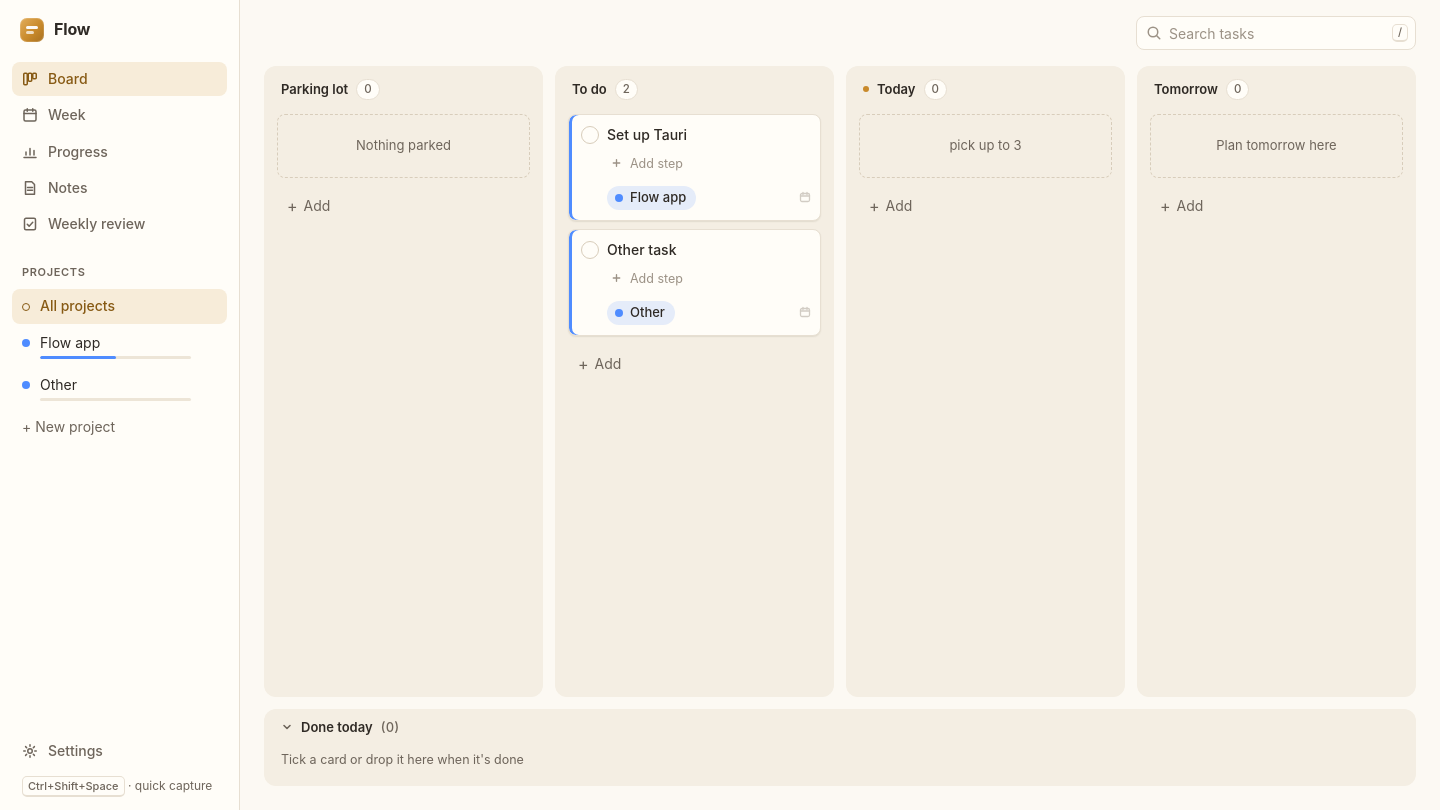
Test case: Project header › edits the goal and writes it to the project file; Escape cancels
Expected: the button "Set up Tauri" is shown, [607,125,810,144]
Step 1. Click the button "Flow app" → (120, 346), box [12,326,227,366]
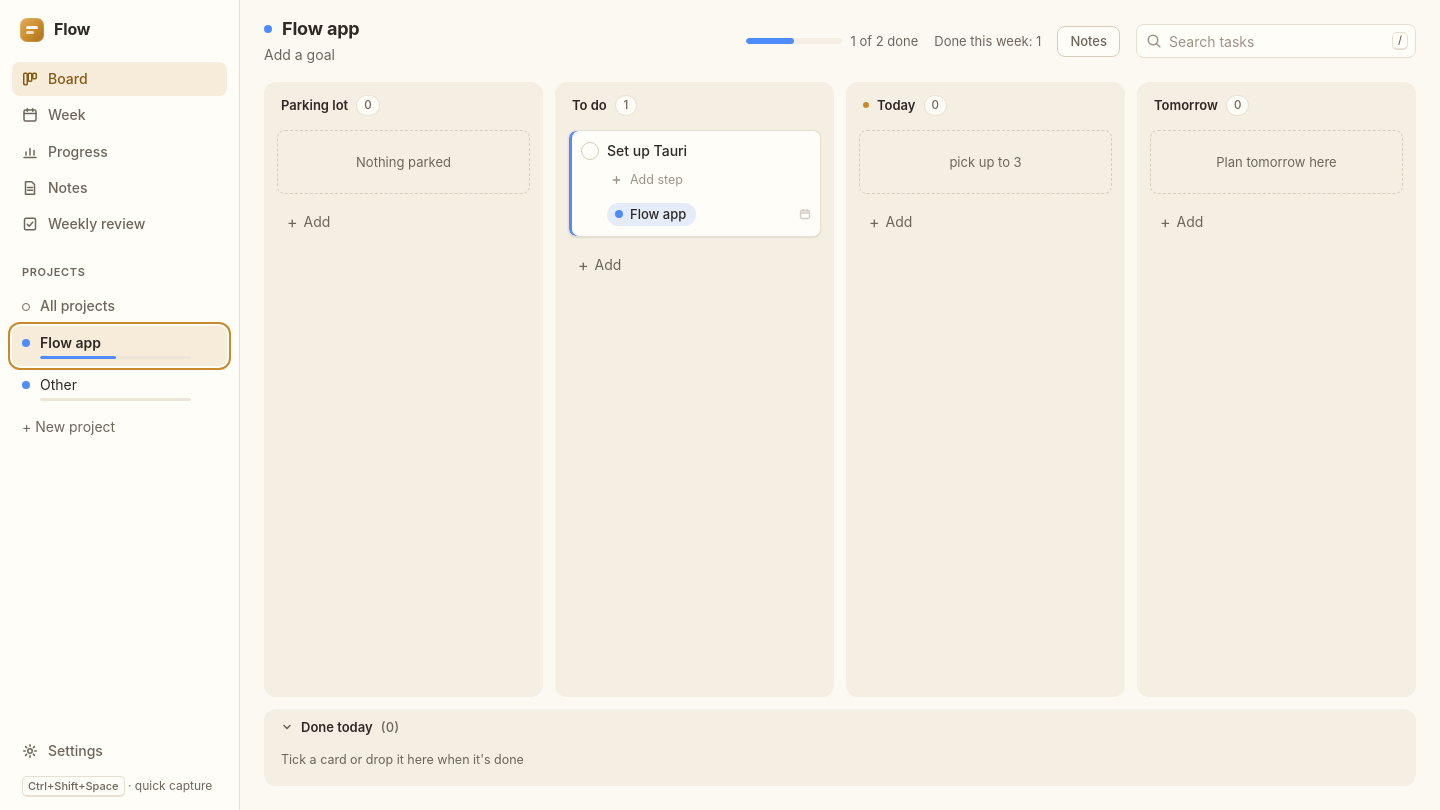
Step 2. Click the button "Add a goal" → (299, 55), box [258,44,341,66]
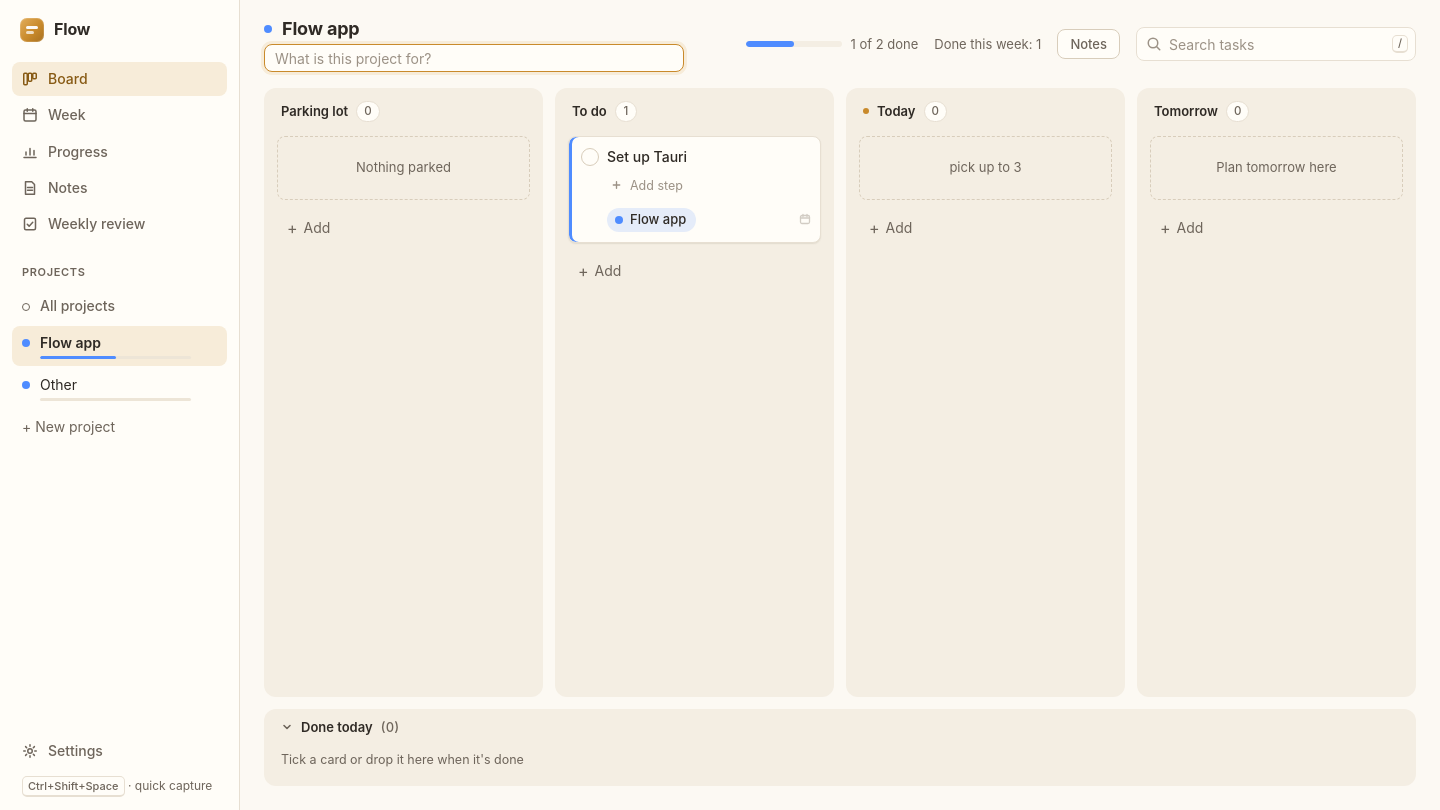
Step 3. Type "Ship v0.2" into the field named "Goal" → (474, 58), box [264,44,684,72]
Then press Escape
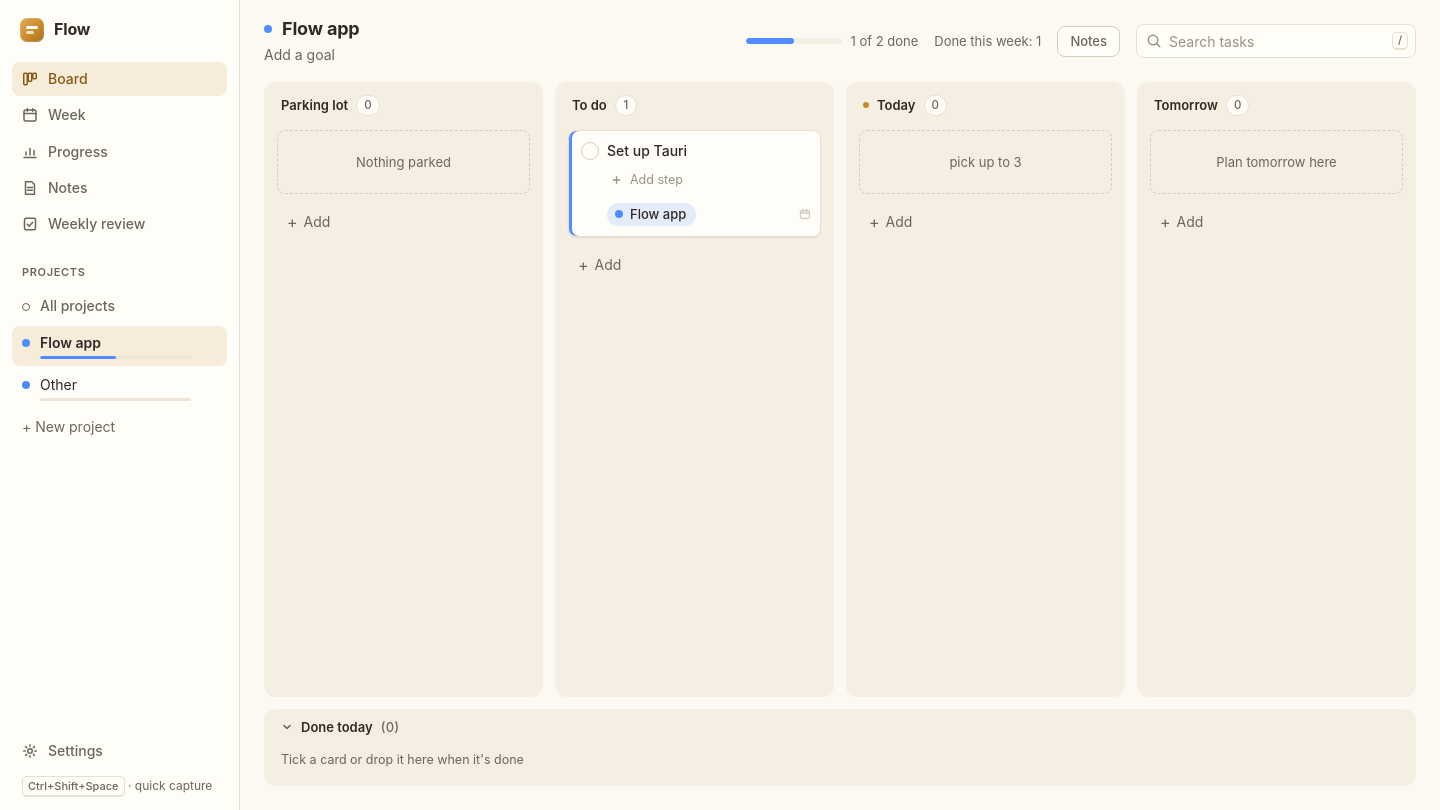
Step 4. Click the button "Add a goal" → (299, 55), box [258,44,341,66]
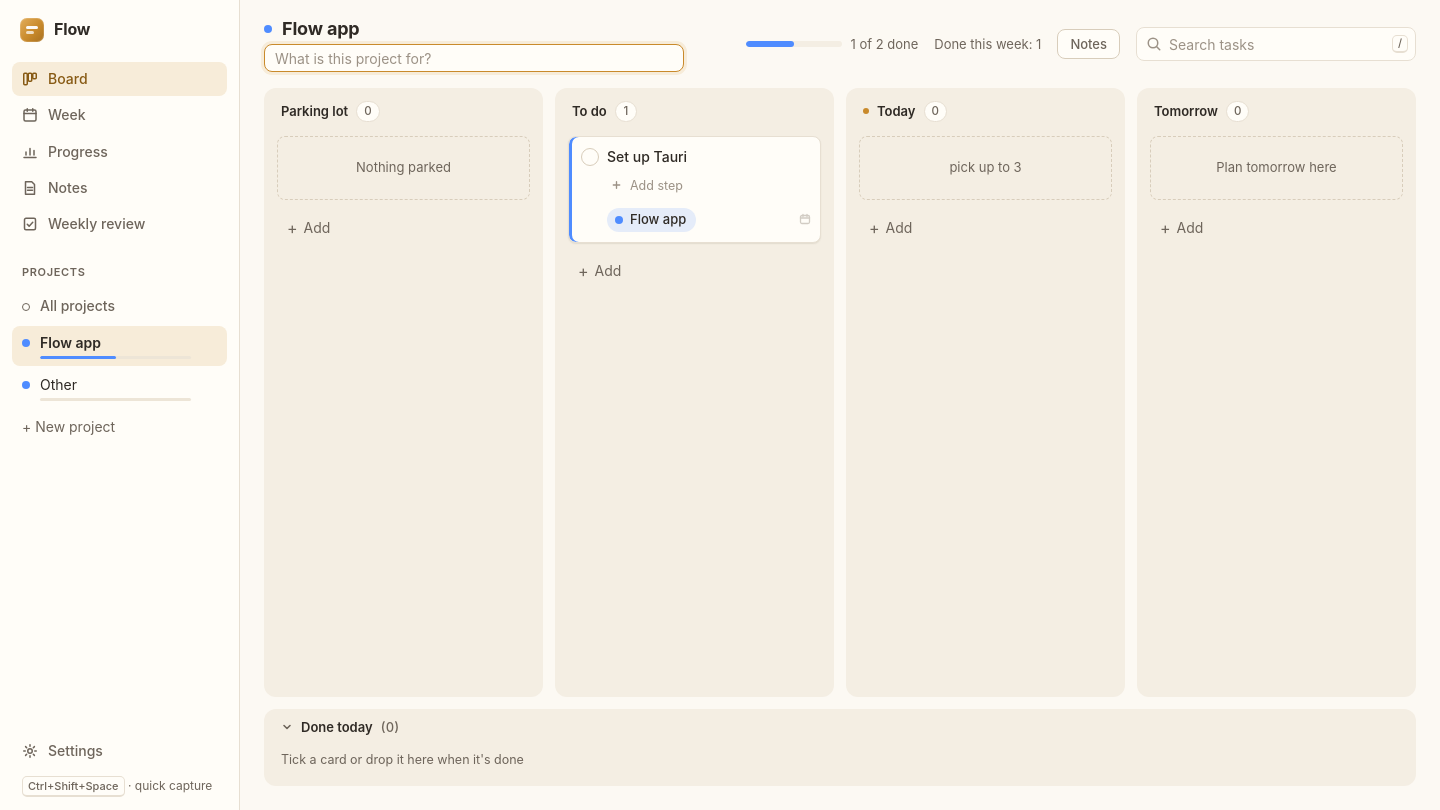
Step 5. Type "Ship v0.2" into the field named "Goal" → (474, 58), box [264,44,684,72]
Then press Enter
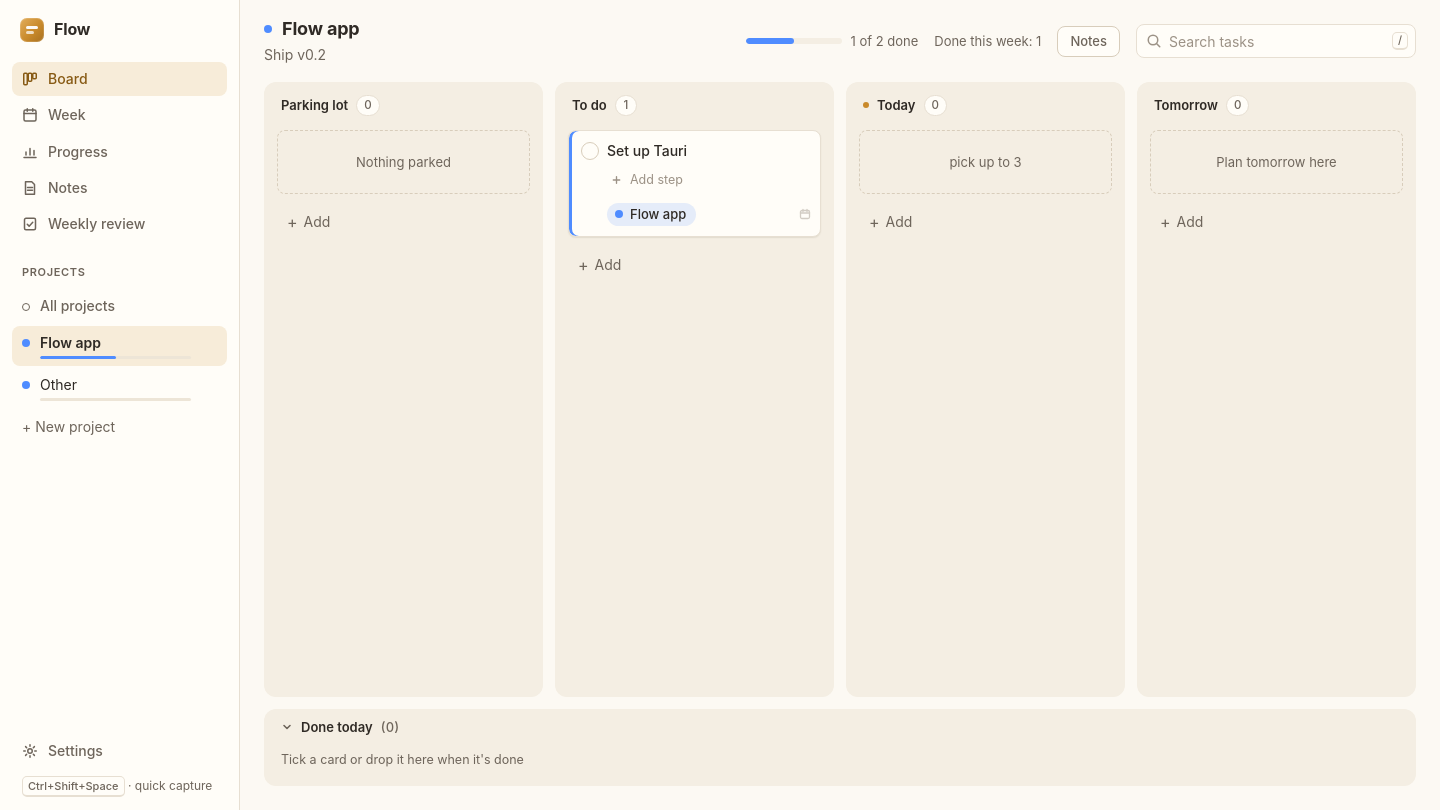
Now the button "Ship v0.2" is shown, box [258,44,332,66]
